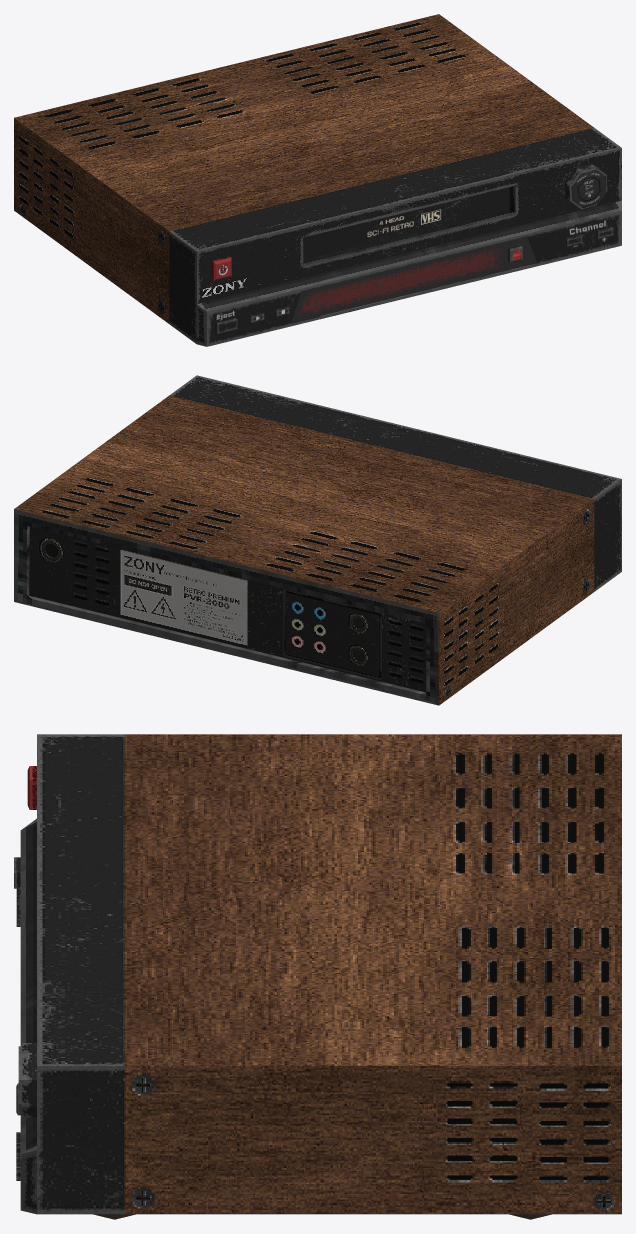
The model's file is VCR_Player.glb.
The picture shows the model from 3 angles, top to bottom: view 1: azimuth 30°, elevation 25°; view 2: azimuth 150°, elevation 25°; view 3: azimuth 270°, elevation 25°; orthographic projection. The views are drawn at different scales.
Visible parts, largest first — view 1: VCR_Player; view 2: VCR_Player; view 3: VCR_Player.
Boxes of the visible parts, left/top/right/bottom form: VCR_Player: left=14, top=14, right=621, bottom=346; VCR_Player: left=14, top=375, right=621, bottom=705; VCR_Player: left=14, top=734, right=621, bottom=1219.
Size of the model in its own units: 0.585 by 0.135 by 0.4531.
1 material, 1 textured.
